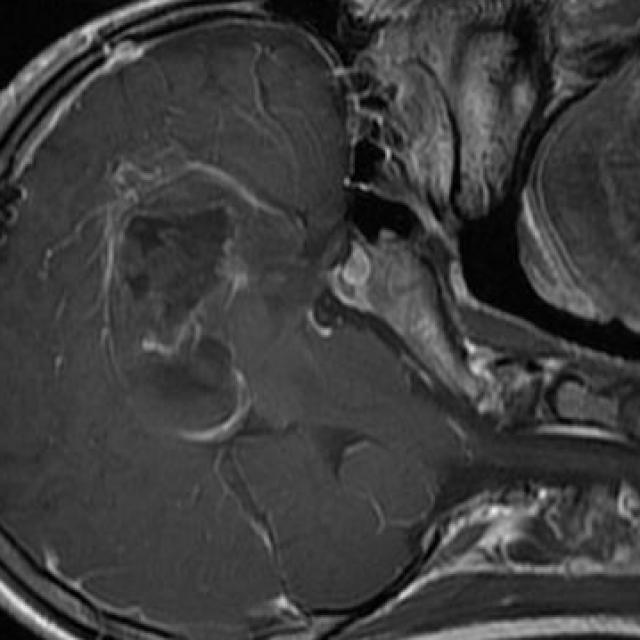glioma: (102, 205, 251, 442)
